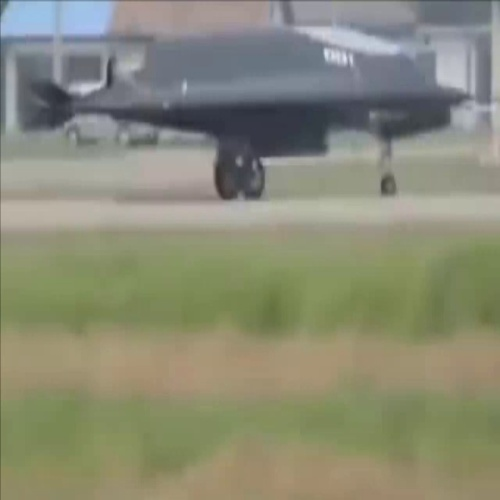uav1028: (13, 20, 479, 201)
